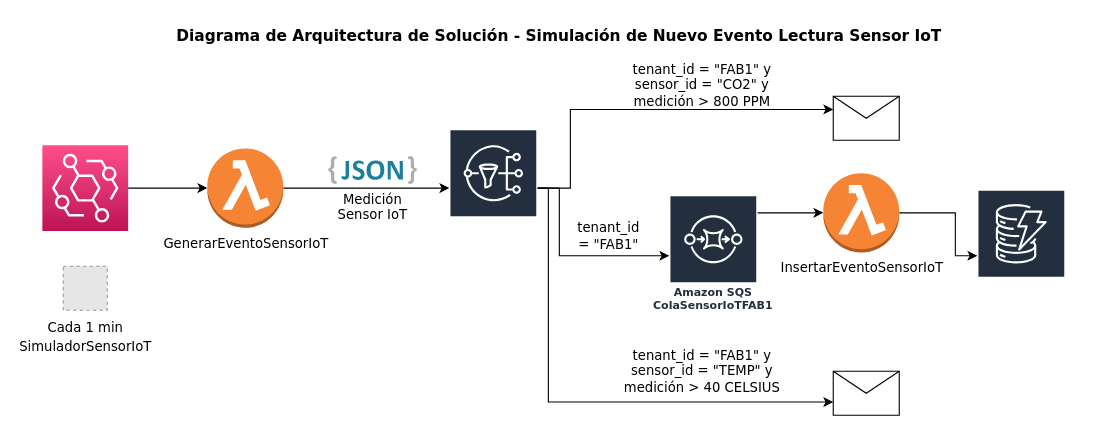
This 1095x435 diagram has some shape labels left out. Grey dashed boxes stand in for pictures. Here are the shapes that lost their labels. From the top down, the box of each, then its label:
(41, 144, 128, 231): EventBridge
(448, 128, 537, 247): Amazon SNS TemaSensorIoT
(976, 189, 1065, 322): Amazon DynamoDB t_sensor_iot_FAB1
